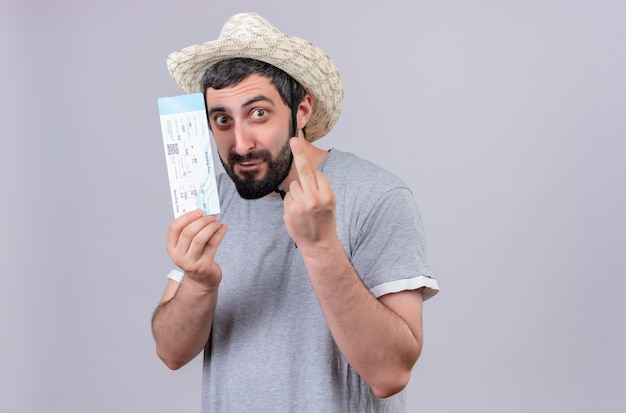insulting_gesture: (281, 135, 339, 247)
